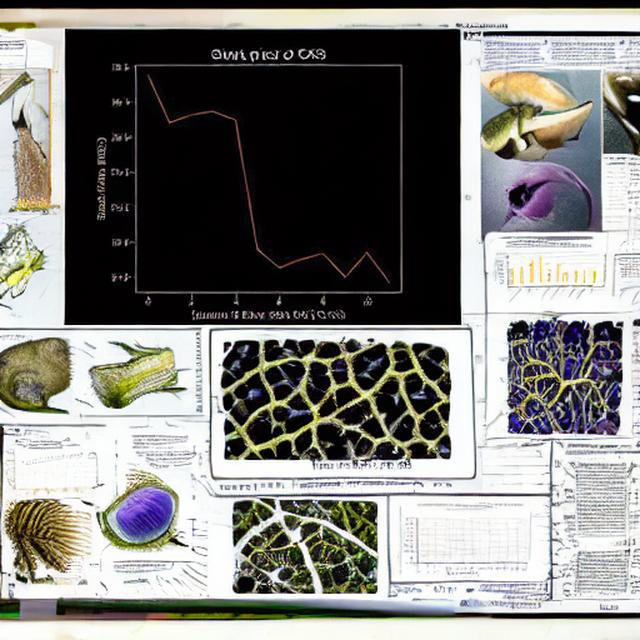Graph: (66, 29, 461, 325), (395, 499, 529, 578), (489, 243, 601, 311), (4, 442, 88, 496)
